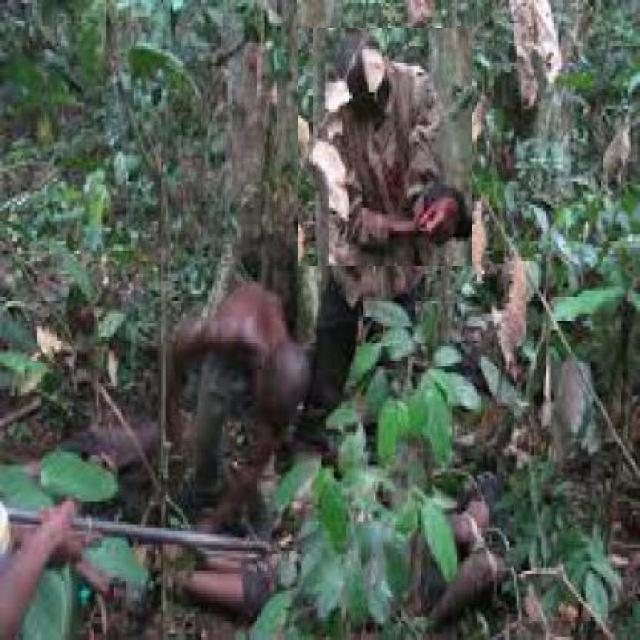poacher: (298, 28, 472, 266), (152, 277, 337, 451)
